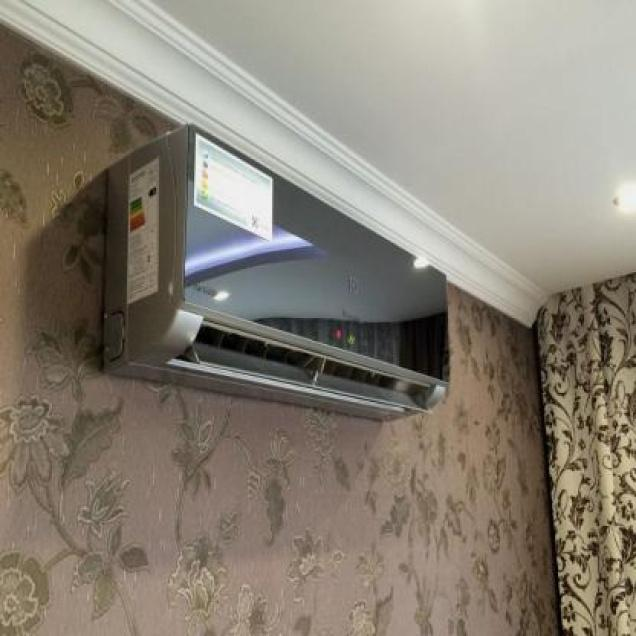AC: (100, 122, 451, 421)
